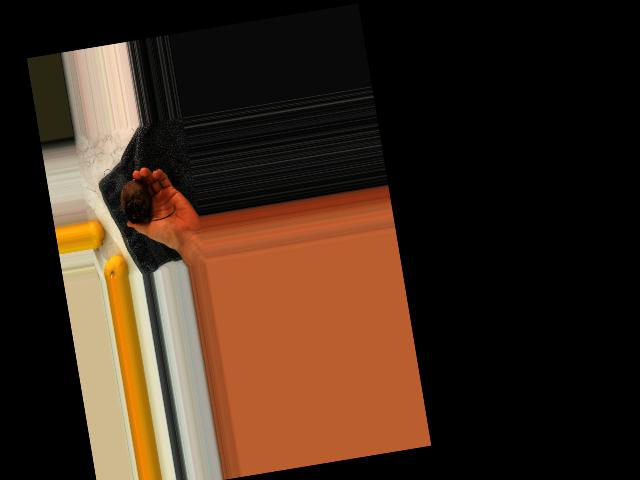beet: (117, 173, 176, 224)
